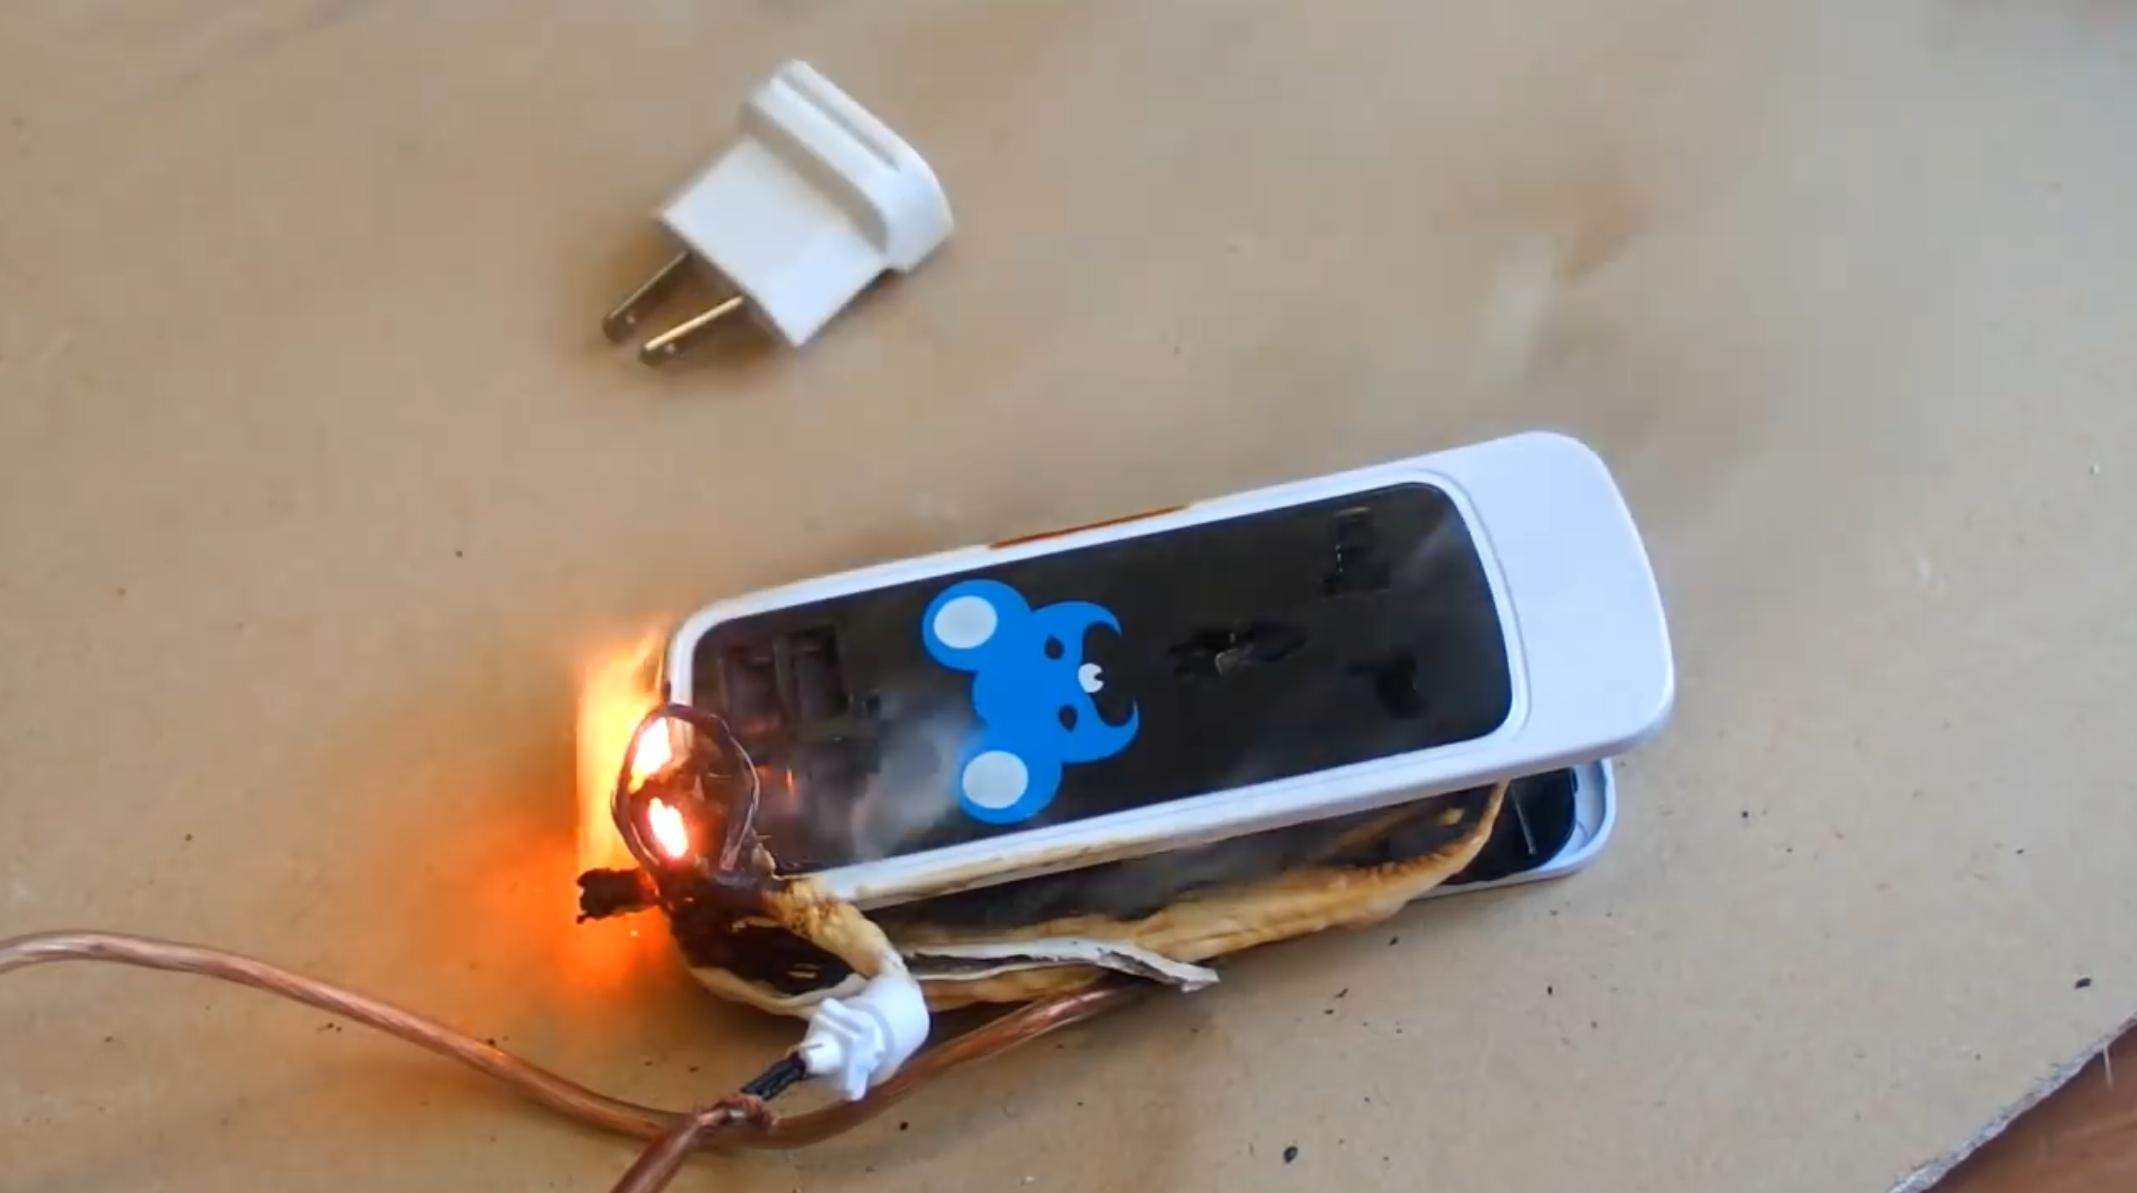fire: (569, 627, 700, 891)
